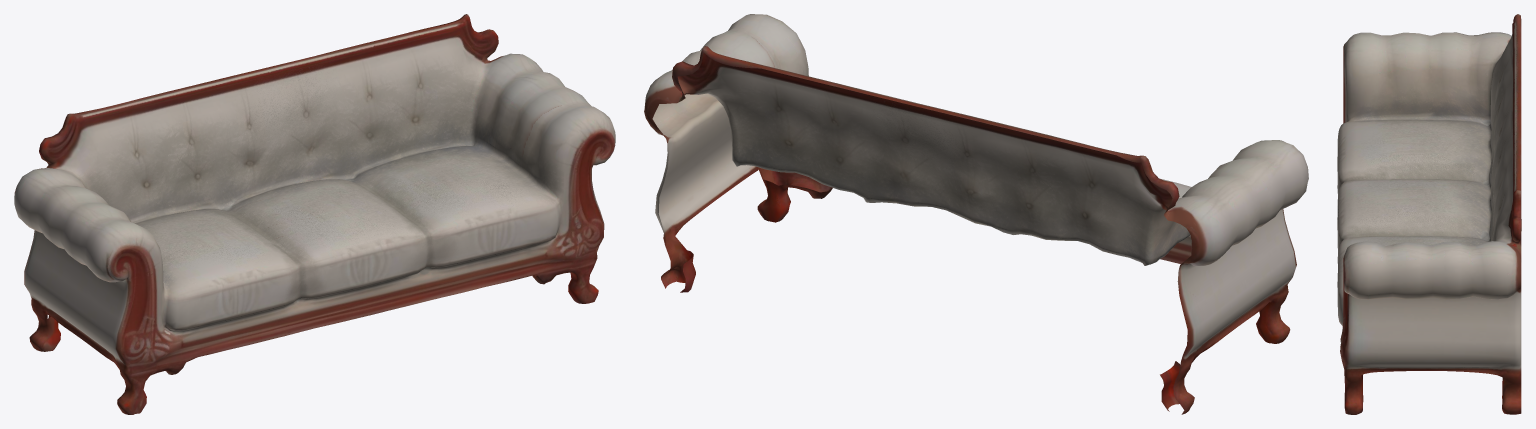
The picture shows the model from 3 angles, left to right: view 1: azimuth 30°, elevation 25°; view 2: azimuth 150°, elevation 25°; view 3: azimuth 270°, elevation 25°; orthographic projection. The views are drawn at different scales.
Visible parts, largest first — view 1: 沙发2; view 2: 沙发2; view 3: 沙发2.
Boxes of the visible parts, x1,y1,x2,y2 form: 沙发2: (14,14,615,414); 沙发2: (644,14,1308,414); 沙发2: (1337,14,1521,414).
Bounding box in the file's own units: 278 × 116 × 92.87.
